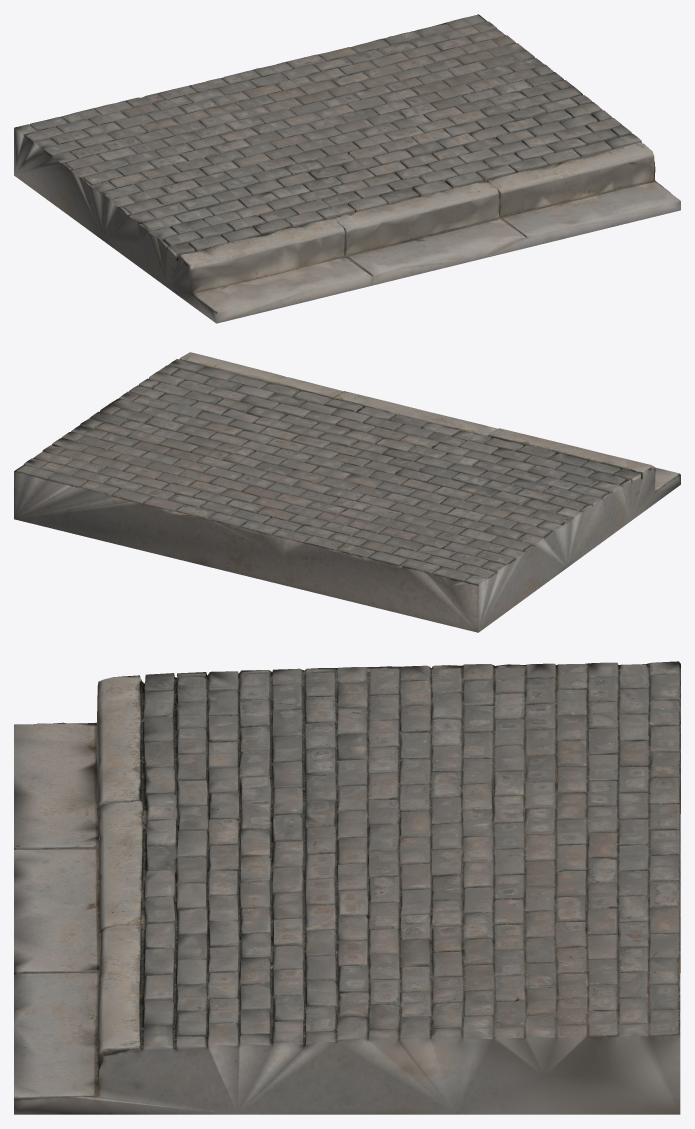
Rendered from PX_Sidewalk_05_LOD1.fbx.
The picture shows the model from 3 angles, top to bottom: view 1: azimuth 30°, elevation 25°; view 2: azimuth 150°, elevation 25°; view 3: azimuth 270°, elevation 25°; orthographic projection. The views are drawn at different scales.
Parts seen in each view (by area): view 1: PX_Sidewalk_05_LOD1; view 2: PX_Sidewalk_05_LOD1; view 3: PX_Sidewalk_05_LOD1.
Part boxes in pixels (left/top/right/bottom): PX_Sidewalk_05_LOD1: left=14, top=14, right=680, bottom=323; PX_Sidewalk_05_LOD1: left=14, top=352, right=680, bottom=632; PX_Sidewalk_05_LOD1: left=14, top=661, right=680, bottom=1114.
Size of the model in its own units: 308 by 30.91 by 232.
